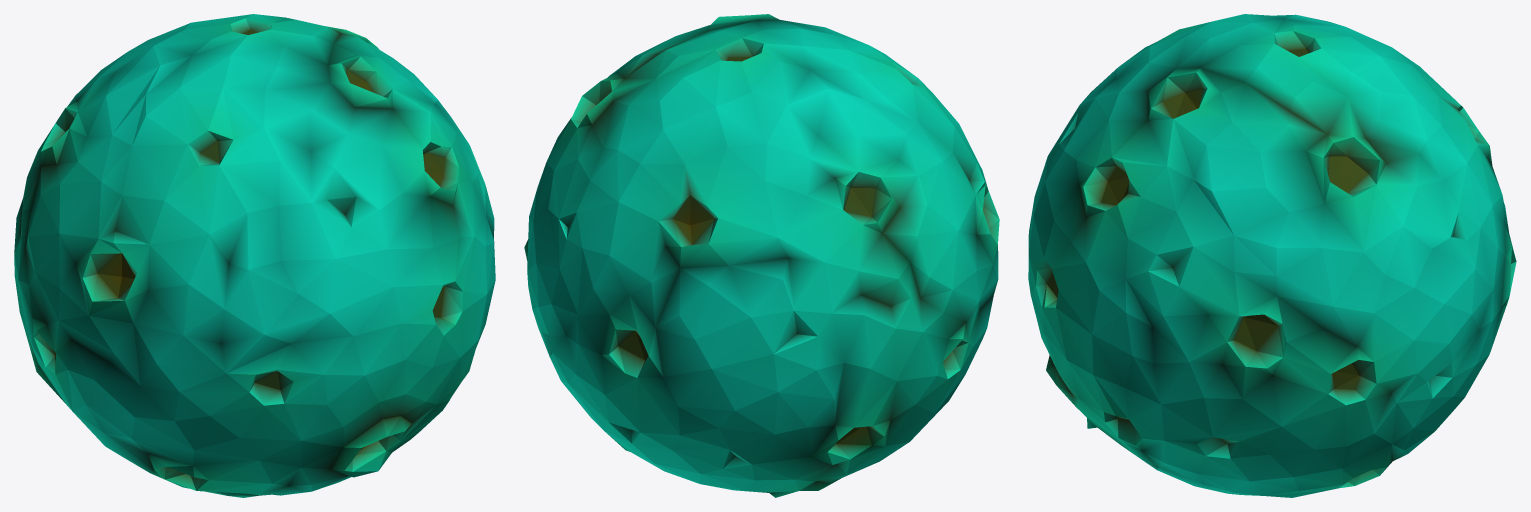
File: moon42.fbx
3 renders of one model, left to right at view 1: azimuth 30°, elevation 25°; view 2: azimuth 150°, elevation 25°; view 3: azimuth 270°, elevation 25°, orthographic. The views are drawn at different scales.
Parts seen in each view (by area): view 1: attribblur1; view 2: attribblur1; view 3: attribblur1.
Boxes of the visible parts, x1,y1,x2,y2 form: attribblur1: (14,14,495,497); attribblur1: (524,14,999,497); attribblur1: (1028,14,1516,497).
Size of the model in its own units: 0.8733 by 0.8556 by 0.86.
